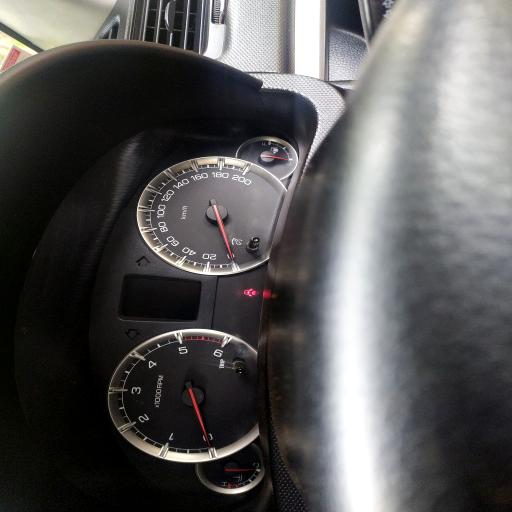tachometer: (109, 326, 270, 462)
